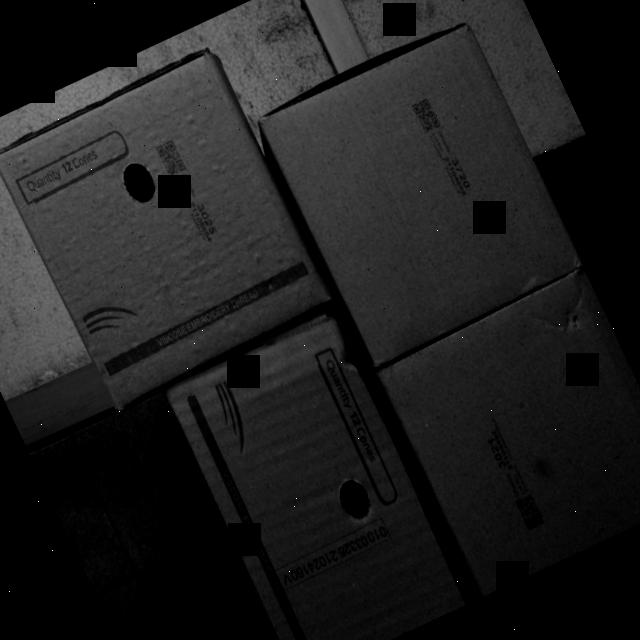box: (0, 49, 337, 417), (258, 24, 594, 379), (163, 312, 473, 640), (375, 273, 640, 597)
